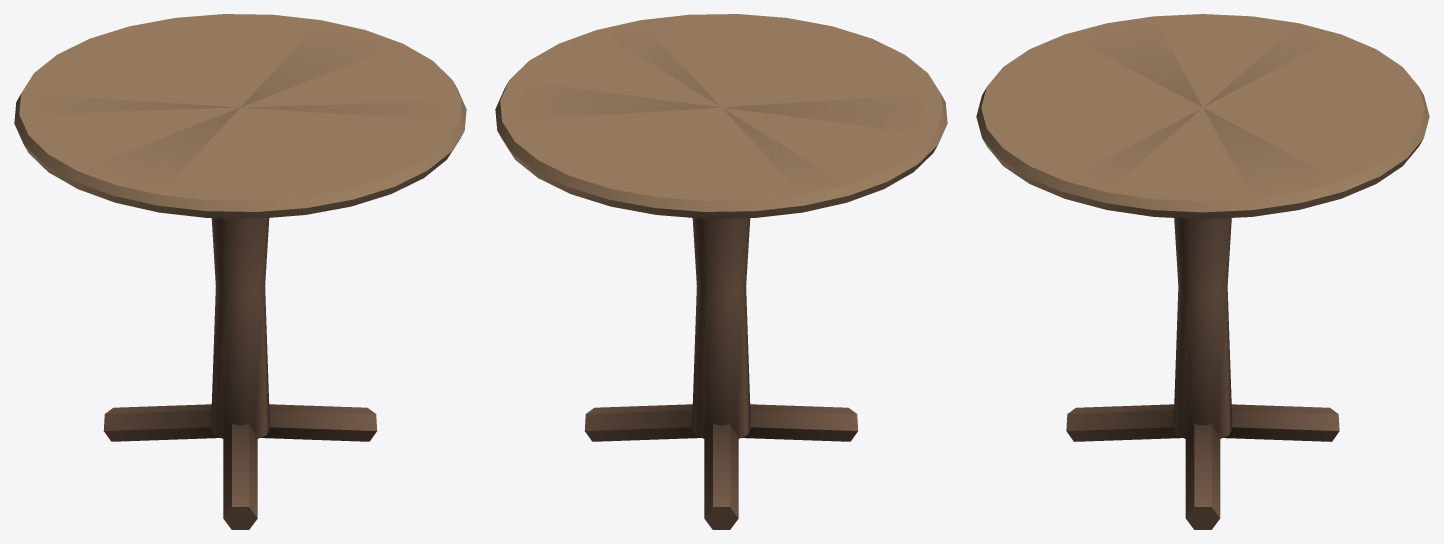
The model's file is table_round.glb.
The picture shows the model from 3 angles, left to right: view 1: azimuth 30°, elevation 25°; view 2: azimuth 150°, elevation 25°; view 3: azimuth 270°, elevation 25°; orthographic projection.
Visible parts, largest first — view 1: boat_oak, boat_darkwood; view 2: boat_oak, boat_darkwood; view 3: boat_oak, boat_darkwood.
Part boxes in pixels (x1,y1,x2,y2): boat_oak: [14, 14, 466, 218]; boat_darkwood: [103, 218, 377, 529]; boat_oak: [495, 14, 947, 218]; boat_darkwood: [584, 218, 858, 529]; boat_oak: [976, 14, 1429, 219]; boat_darkwood: [1066, 218, 1339, 529].
Bounding box in the file's own units: 0.92 × 0.8093 × 0.92.
